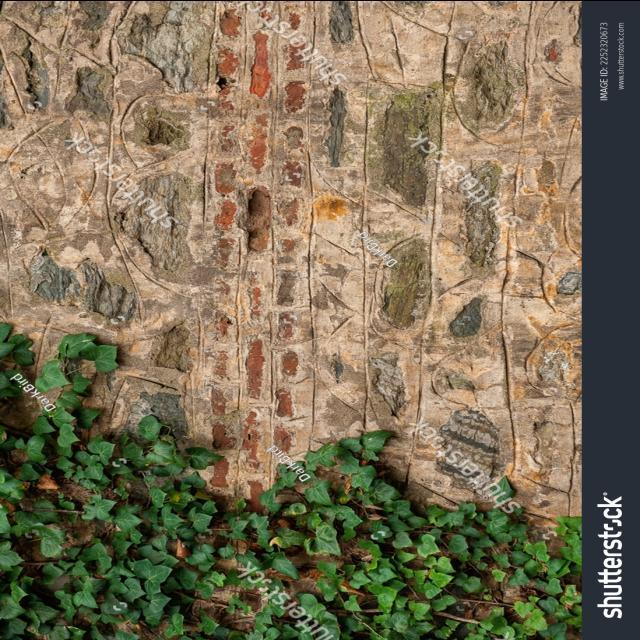vegetation: (0, 319, 581, 639)
